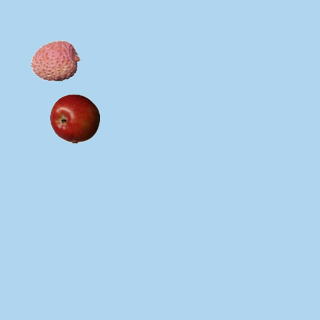Apple Braeburn: (49, 93, 99, 143)
Lychee: (30, 35, 80, 85)
